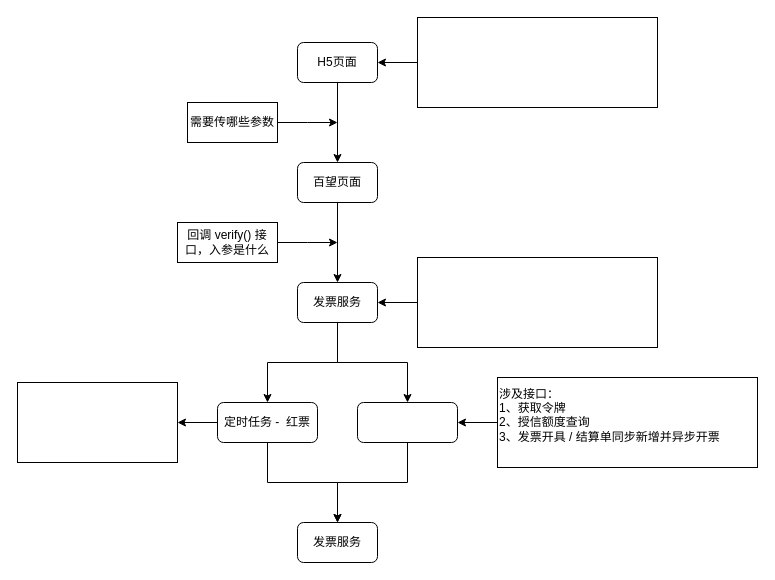
Image size: 775x580. Some labels were removed from this diagram. The box of each missing label's shape, as (x1, y1, x2, y2) in pixels:
功能：根据乘客的证件号码、乘车日期，查询乘客的有效购票记录，以列表形式展现 入参：证件号码、乘车日期 出参：: (416, 16, 658, 108)
功能：根据百望的数据，生成开票记录，需要入库。后续通过定时任务，异步开票 入参：需要确认百望提供什么参数 出参：需要确认百望需要什么响应: (416, 256, 658, 348)
定时任务 - 蓝票: (356, 402, 458, 442)
涉及接口： 1、获取令牌 2、红字信息表填开 3、全电发票红冲: (16, 382, 178, 462)
